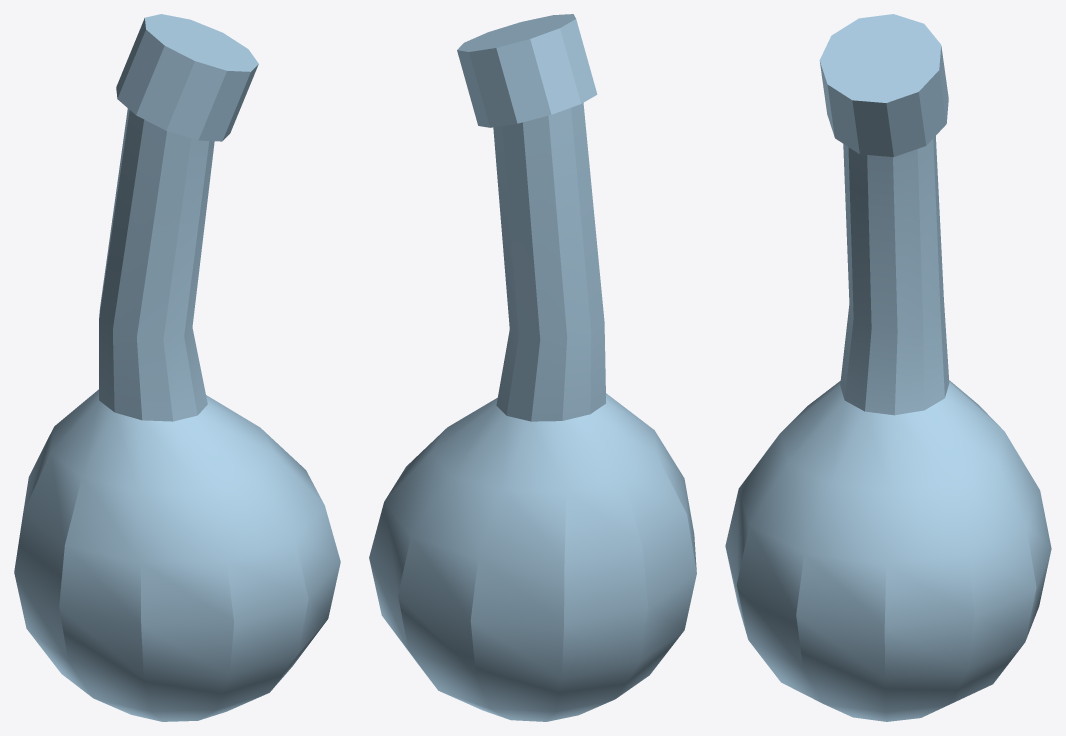
File: 004_Shadow_Potion_01.fbx
3 views of the same model, side by side, from view 1: azimuth 30°, elevation 25°; view 2: azimuth 150°, elevation 25°; view 3: azimuth 270°, elevation 25° (orthographic).
Visible parts, largest first — view 1: Sphere.025; view 2: Sphere.025; view 3: Sphere.025.
Part boxes in pixels (bbox=[...]): Sphere.025: bbox=[14, 14, 340, 721]; Sphere.025: bbox=[369, 14, 696, 721]; Sphere.025: bbox=[725, 14, 1051, 721].
Bounding box in the file's own units: 46.21 × 107 × 46.55.
